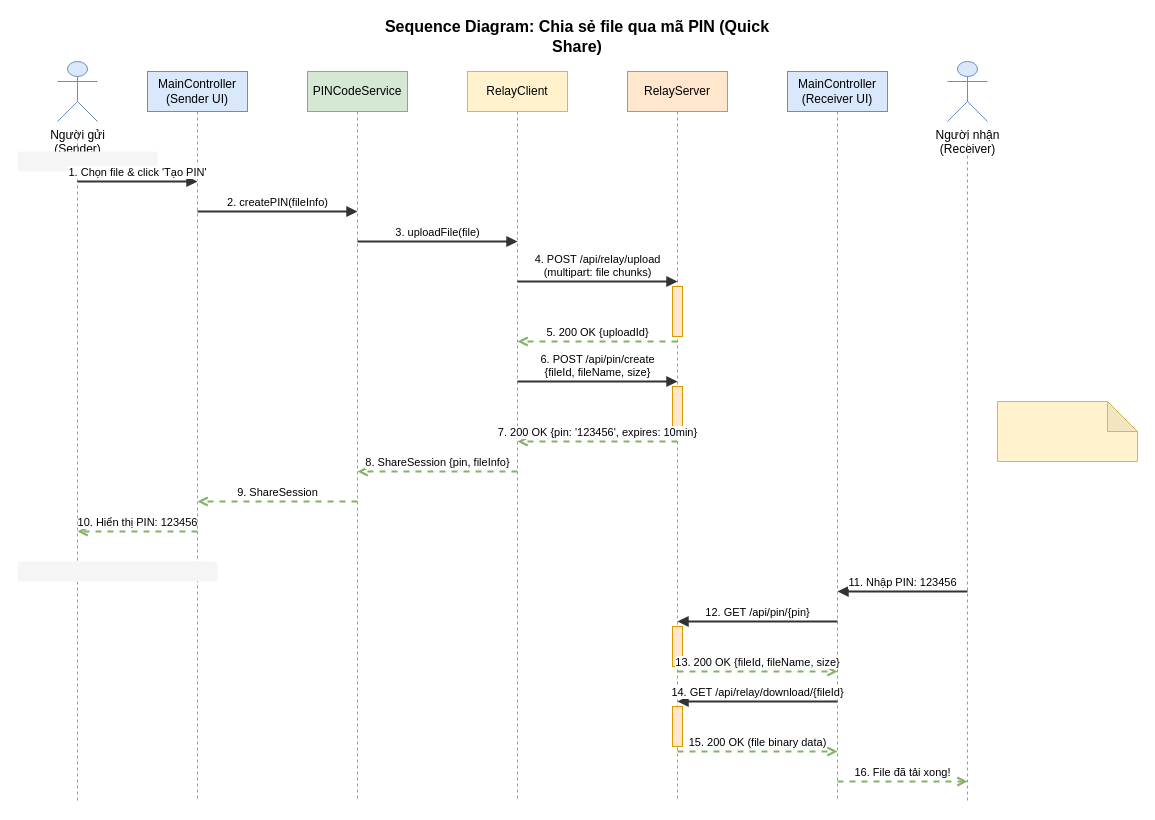
Image size: 1155x820. Some labels were removed from this diagram. Each missing label, with the centre of its shape:
"PHASE 1: Tạo mã PIN" belongs at (87,161).
"PHASE 2: Nhập mã PIN và tải file" belongs at (117,571).
"PIN có hiệu lực trong 10 phút Sau đó sẽ tự động hết hạn" belongs at (1067,431).
